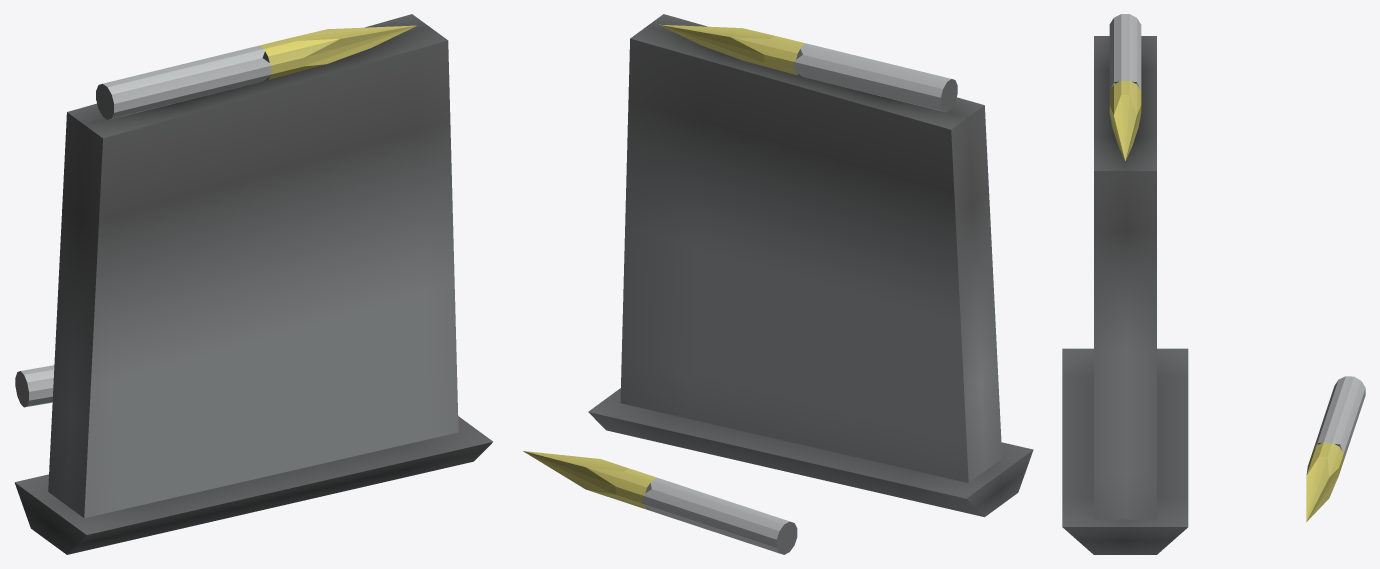
Rendered from AR Clip.obj.
3 views of the same model, side by side, from view 1: azimuth 30°, elevation 25°; view 2: azimuth 150°, elevation 25°; view 3: azimuth 270°, elevation 25° (orthographic). The views are drawn at different scales.
Parts seen in each view (by area): view 1: cuboid, cone; view 2: cuboid, cone; view 3: cuboid, cone.
Part boxes in pixels (<box>): cuboid: <box>14,14,492,554</box>; cone: <box>15,25,416,407</box>; cuboid: <box>588,14,1033,517</box>; cone: <box>523,24,957,554</box>; cuboid: <box>1062,36,1188,554</box>; cone: <box>1109,14,1365,522</box>.
Size of the model in its own units: 0.1645 by 0.1713 by 0.1202.
1 material, 1 textured.
